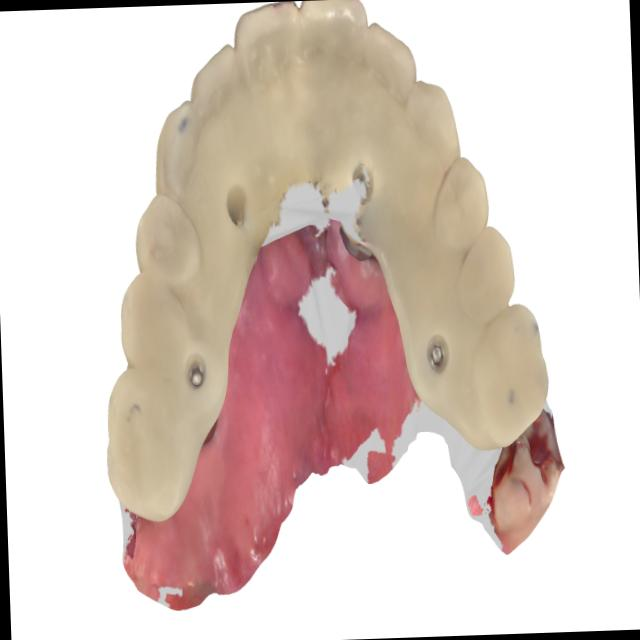tooth: (100, 361, 192, 537), (463, 294, 558, 455), (480, 406, 573, 562), (397, 53, 473, 231), (232, 0, 321, 145), (417, 124, 498, 266), (181, 29, 262, 166), (143, 88, 224, 225), (450, 212, 530, 341), (107, 264, 194, 375), (129, 189, 211, 302), (351, 14, 428, 125), (299, 0, 374, 110)
